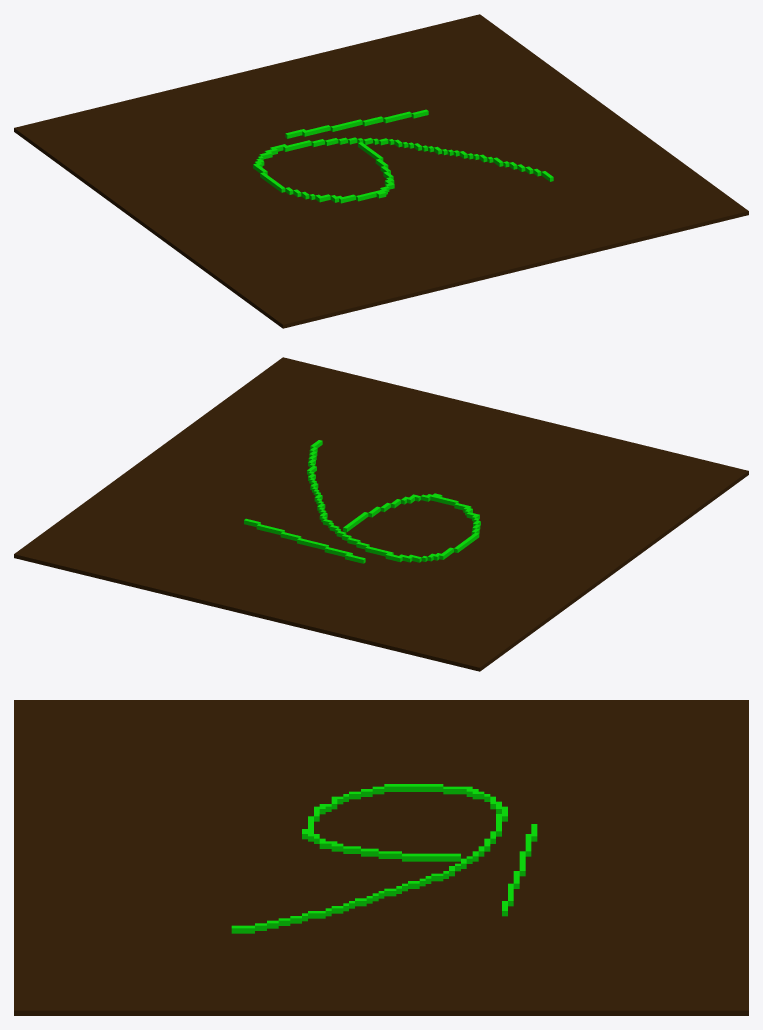
Rendered from newPrototypeLevel-15.obj.
The picture shows the model from 3 angles, top to bottom: view 1: azimuth 30°, elevation 25°; view 2: azimuth 150°, elevation 25°; view 3: azimuth 270°, elevation 25°; orthographic projection. The views are drawn at different scales.
Visible parts, largest first — view 1: newPrototypeLevel-15; view 2: newPrototypeLevel-15; view 3: newPrototypeLevel-15.
Boxes of the visible parts, x1,y1,x2,y2 form: newPrototypeLevel-15: (14,14,748,328); newPrototypeLevel-15: (14,357,748,671); newPrototypeLevel-15: (14,700,748,1015).
Size of the model in its own units: 125 by 2 by 125.
1 material, 1 textured.
